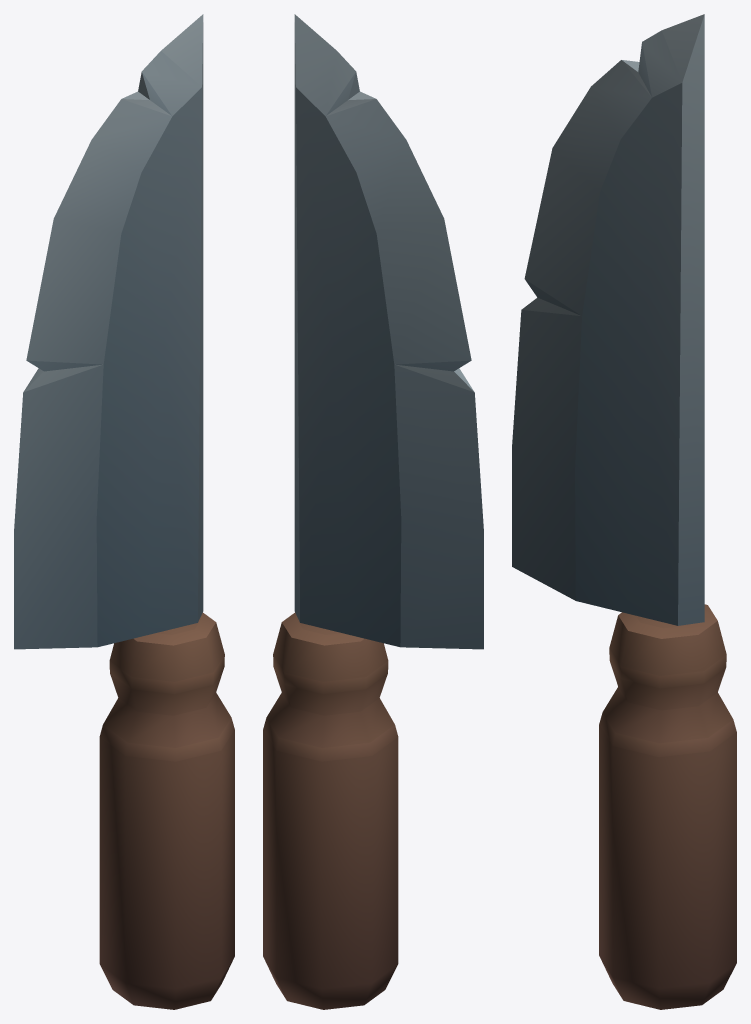
File: KT_knife.glb
The picture shows the model from 3 angles, left to right: view 1: azimuth 30°, elevation 25°; view 2: azimuth 150°, elevation 25°; view 3: azimuth 330°, elevation 25°; orthographic projection.
Visible parts, largest first — view 1: knife; view 2: knife; view 3: knife.
Boxes of the visible parts, left/top/right/bottom form: knife: left=14, top=14, right=234, bottom=1009; knife: left=263, top=14, right=483, bottom=1009; knife: left=512, top=14, right=736, bottom=1009.
Size of the model in its own units: 0.2878 by 1.29 by 0.1513.
